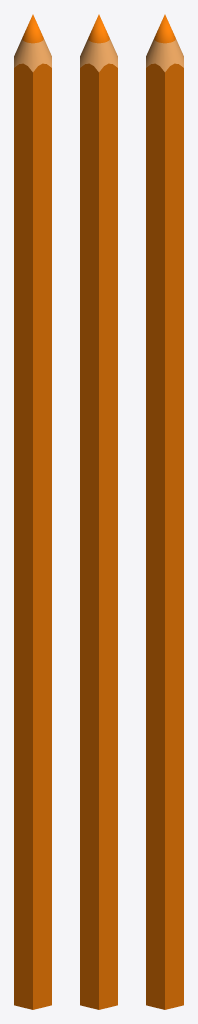
The model's file is potlood-oranje.fbx.
3 renders of one model, left to right at view 1: azimuth 30°, elevation 25°; view 2: azimuth 210°, elevation 25°; view 3: azimuth 270°, elevation 25°, orthographic.
Parts seen in each view (by area): view 1: Model; view 2: Model; view 3: Model.
Boxes of the visible parts, x1=… form: Model: x1=14, y1=14, x2=51, y2=1009; Model: x1=80, y1=14, x2=117, y2=1009; Model: x1=146, y1=14, x2=183, y2=1009.
Bounding box in the file's own units: 80 × 2000 × 69.28.
